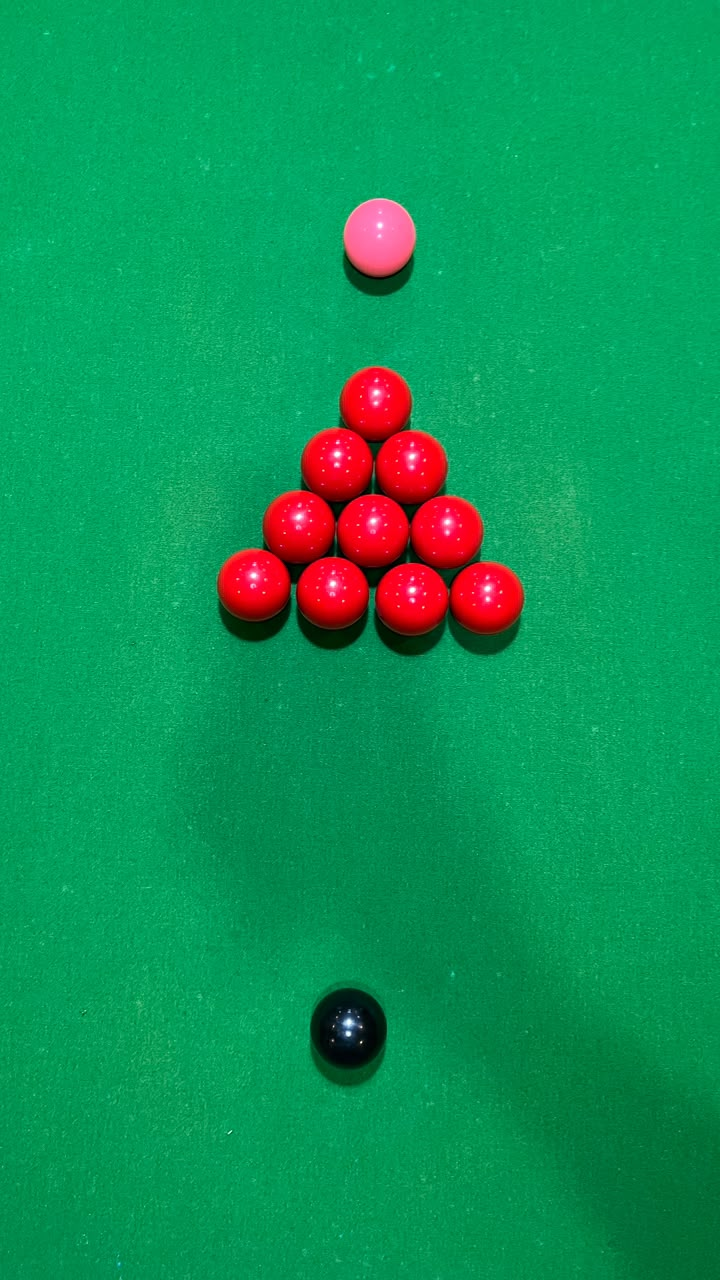Snooker: (200, 338, 542, 652)
